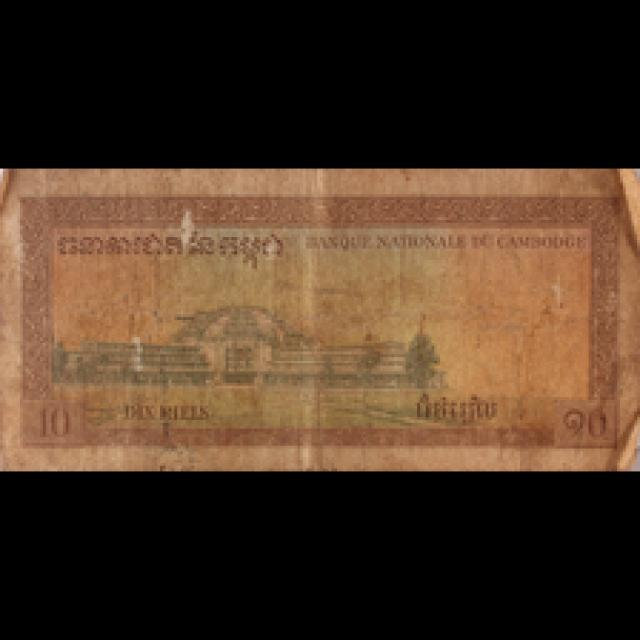banknote: (3, 170, 635, 466), (25, 393, 84, 452)
